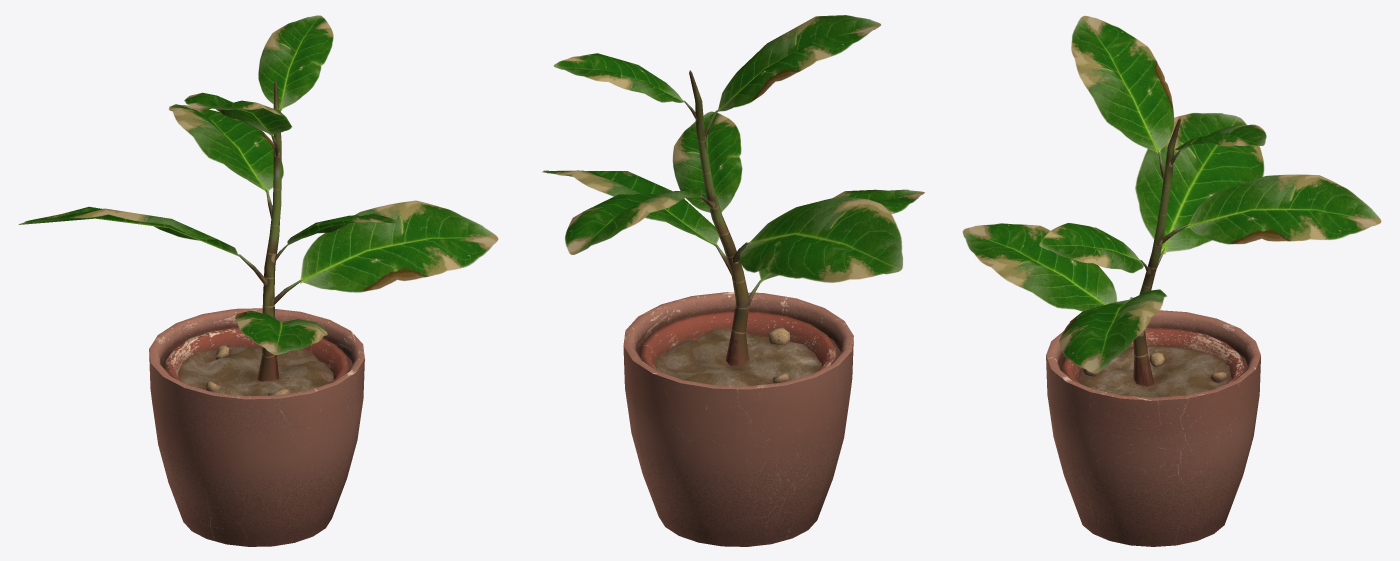
The model's file is sf-rubber-plant.glb.
The picture shows the model from 3 angles, left to right: view 1: azimuth 30°, elevation 25°; view 2: azimuth 150°, elevation 25°; view 3: azimuth 270°, elevation 25°; orthographic projection. The views are drawn at different scales.
Parts seen in each view (by area): view 1: Ficus_Ficus_0; view 2: Ficus_Ficus_0; view 3: Ficus_Ficus_0.
Boxes of the visible parts, x1=… form: Ficus_Ficus_0: x1=19, y1=15, x2=498, y2=546; Ficus_Ficus_0: x1=542, y1=15, x2=924, y2=546; Ficus_Ficus_0: x1=962, y1=16, x2=1381, y2=546.
Size of the model in its own units: 0.7613 by 0.8 by 0.687.
1 material, 1 textured.
